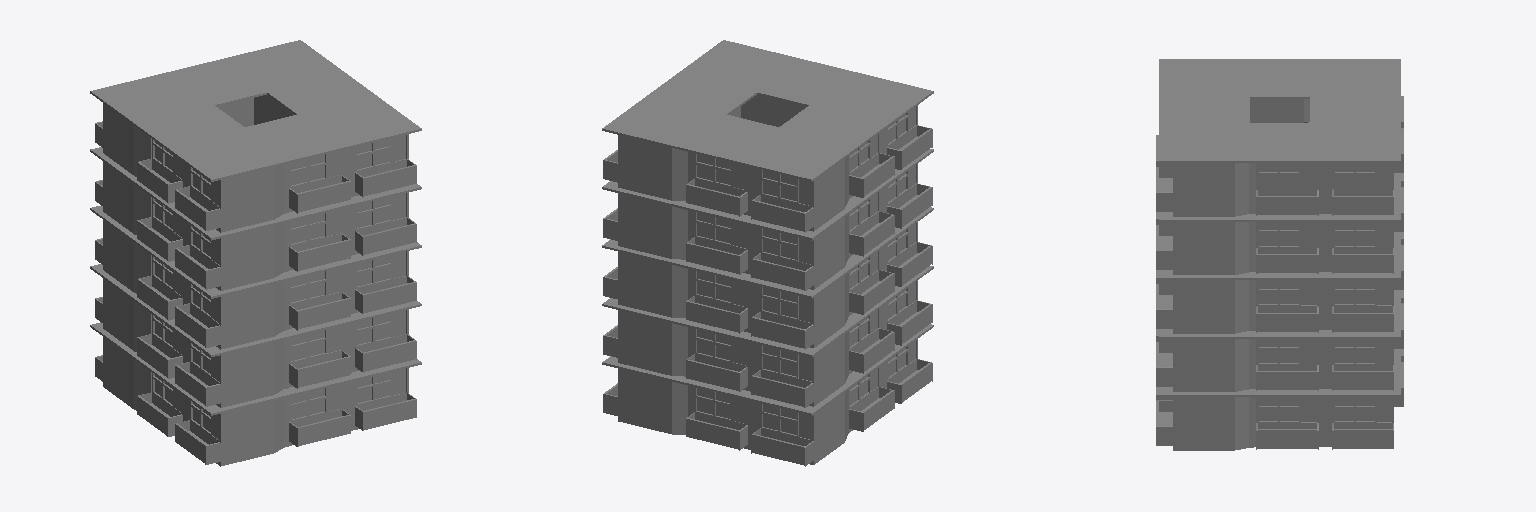
File: edificio.obj
The picture shows the model from 3 angles: view 1: azimuth 30°, elevation 25°; view 2: azimuth 150°, elevation 25°; view 3: azimuth 270°, elevation 25°; orthographic projection.
Visible parts, largest first — view 1: Cube; view 2: Cube; view 3: Cube.
Part boxes in pixels (left/top/right/bottom): Cube: left=90, top=40, right=421, bottom=466; Cube: left=602, top=40, right=933, bottom=466; Cube: left=1156, top=59, right=1403, bottom=450.
Size of the model in its own units: 314 by 409 by 314.